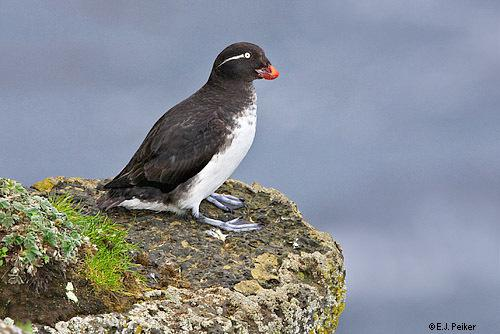007.Parakeet_Auklet: (94, 38, 284, 236)
